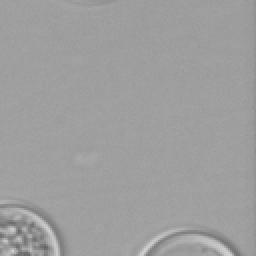picoshell: (0, 200, 62, 254), (142, 230, 242, 256)
